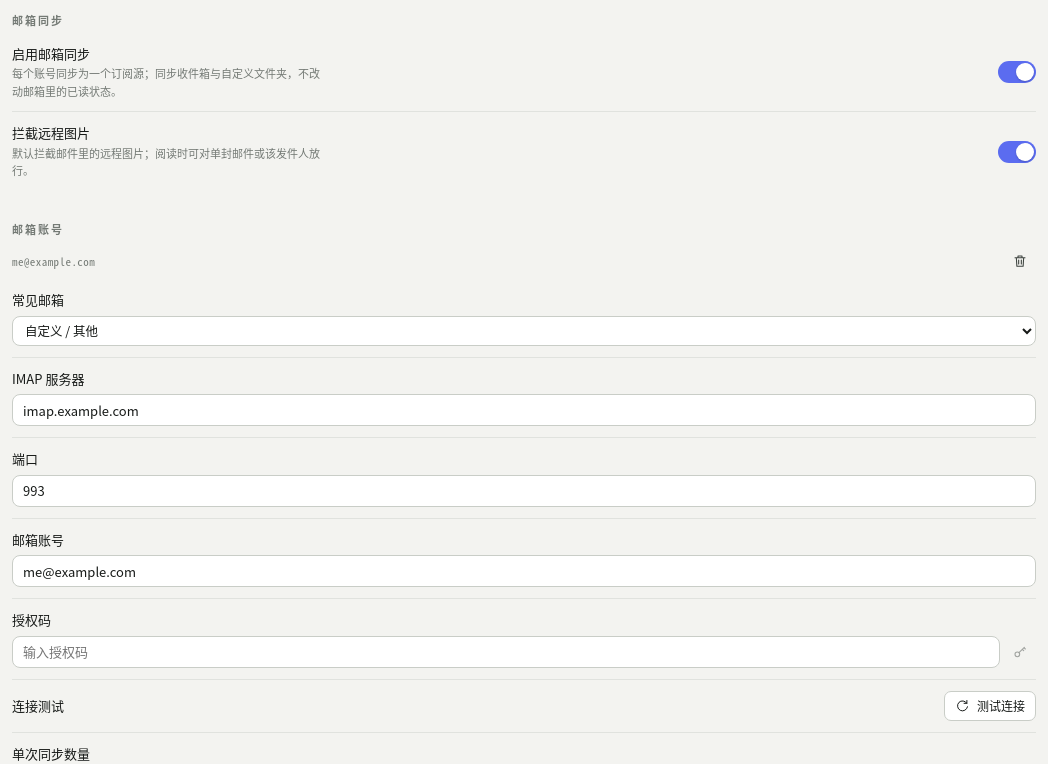
EmailSettings › saves a new password for the selected account
The width and height of the screenshot is (1048, 764).
Type "mock-app-password" into the password field named "邮箱 1 授权码" at (506,652), box [12,636,1000,668]
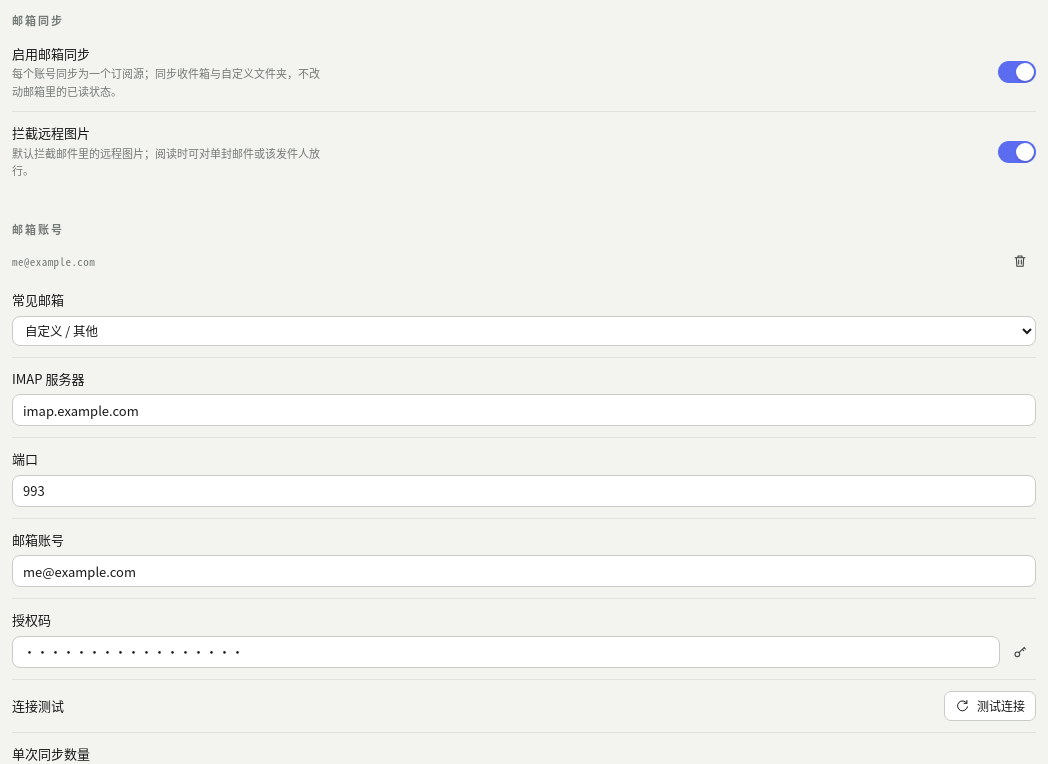
Click the button named "保存授权码" at (1020,652), box [1004,636,1036,668]
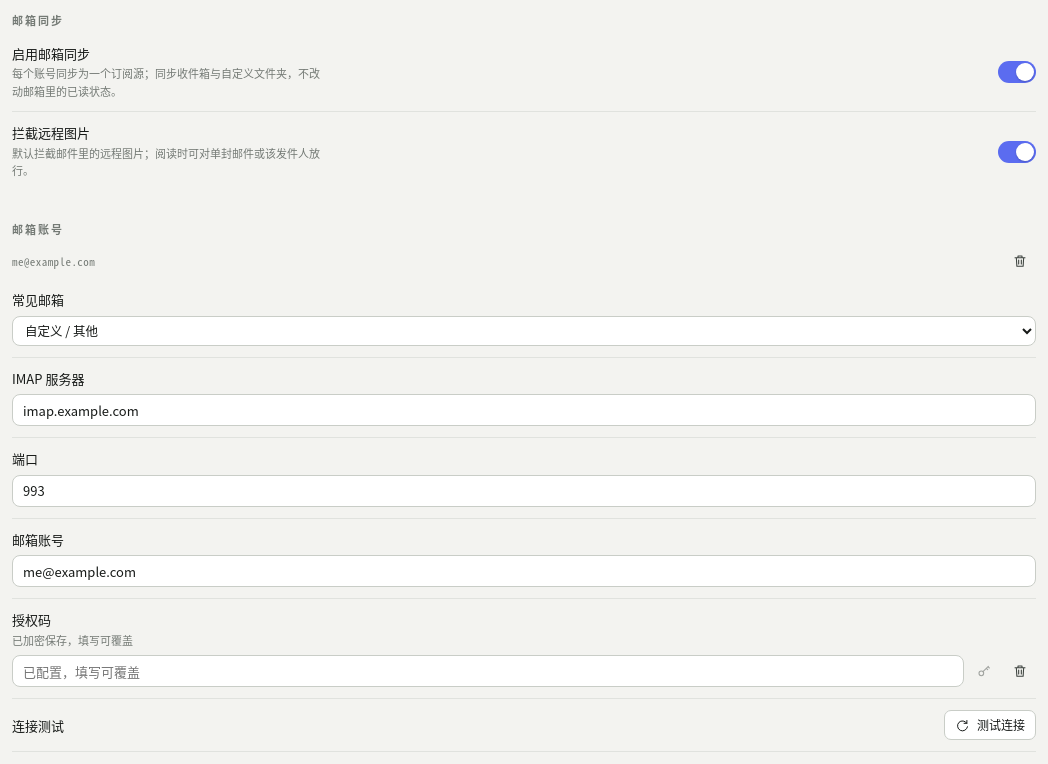
Now the password field with placeholder "已配置，填写可覆盖" is shown, box [12,656,964,688]
